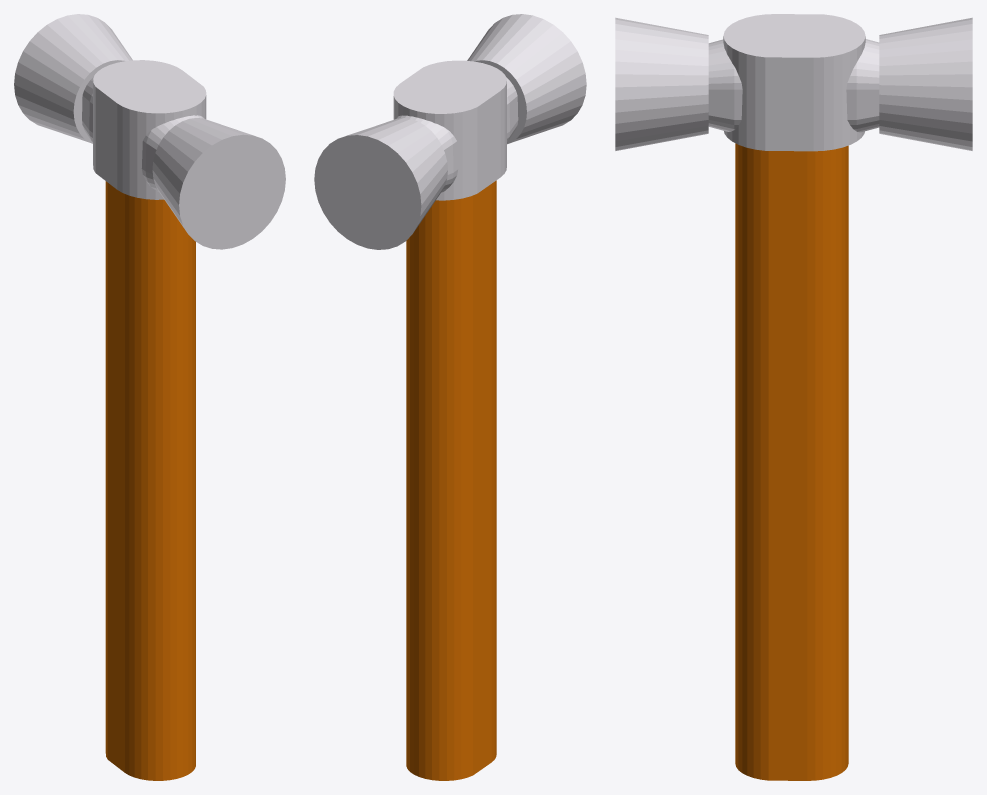
Rendered from Hammer.fbx.
3 renders of one model, left to right at view 1: azimuth 30°, elevation 25°; view 2: azimuth 150°, elevation 25°; view 3: azimuth 270°, elevation 25°, orthographic. The views are drawn at different scales.
Parts seen in each view (by area): view 1: Cylinder.001; view 2: Cylinder.001; view 3: Cylinder.001.
Boxes of the visible parts, box(x1,y1,x2,y2) form: Cylinder.001: box(14, 14, 285, 780); Cylinder.001: box(314, 14, 586, 780); Cylinder.001: box(615, 14, 972, 780).
Bounding box in the file's own units: 218 × 1333 × 584.
